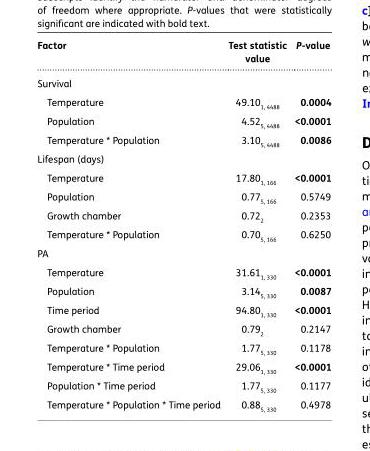table: (36, 36, 330, 412)
table column: (36, 36, 223, 412), (223, 36, 289, 412), (289, 36, 330, 412)
table column header: (36, 36, 330, 70)
table projected row header: (36, 70, 330, 91), (36, 149, 330, 167), (36, 244, 330, 261)
table row: (36, 36, 330, 70), (36, 70, 330, 91), (36, 91, 330, 111), (36, 167, 330, 187), (36, 261, 330, 281), (36, 111, 330, 130), (36, 130, 330, 149), (36, 187, 330, 206), (36, 206, 330, 225), (36, 225, 330, 244), (36, 281, 330, 300), (36, 300, 330, 319), (36, 319, 330, 338), (36, 338, 330, 357), (36, 357, 330, 376), (36, 376, 330, 395), (36, 149, 330, 167), (36, 244, 330, 261), (36, 395, 330, 412)
